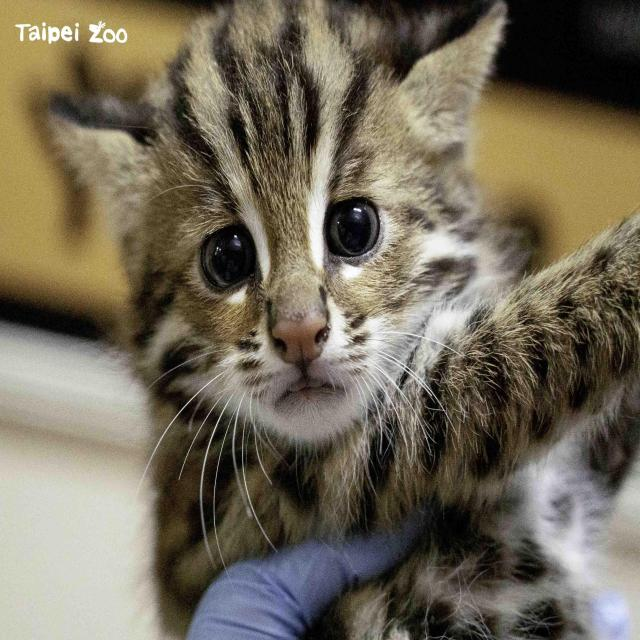leopard: (23, 5, 595, 608)
